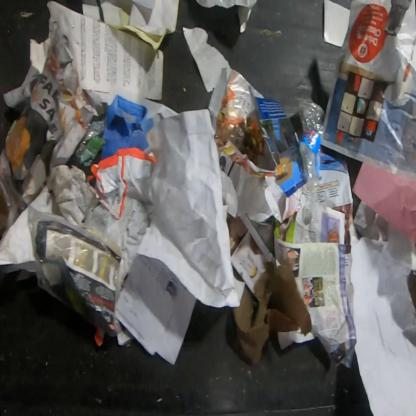cardboard: (5, 8, 100, 204), (1, 38, 52, 112)
rigid_plastic: (296, 94, 326, 206)
soft_plastic: (0, 144, 125, 339), (68, 113, 108, 174)
